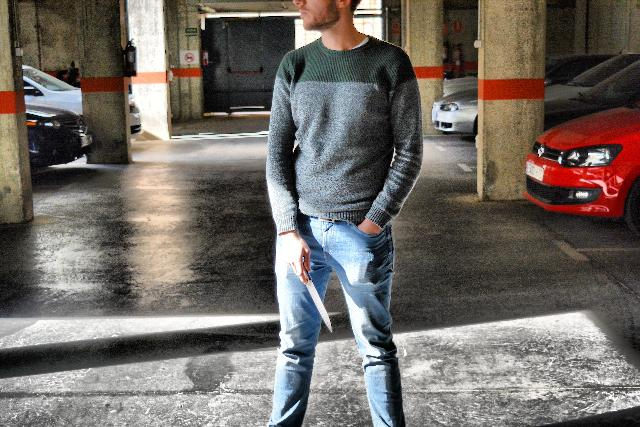knife: (296, 260, 334, 336)
